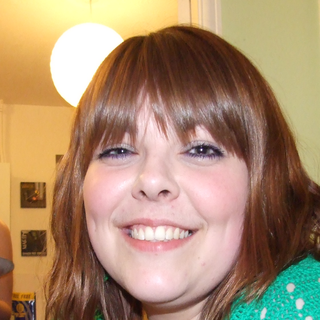eye: (174, 134, 228, 167), (88, 139, 142, 165)
